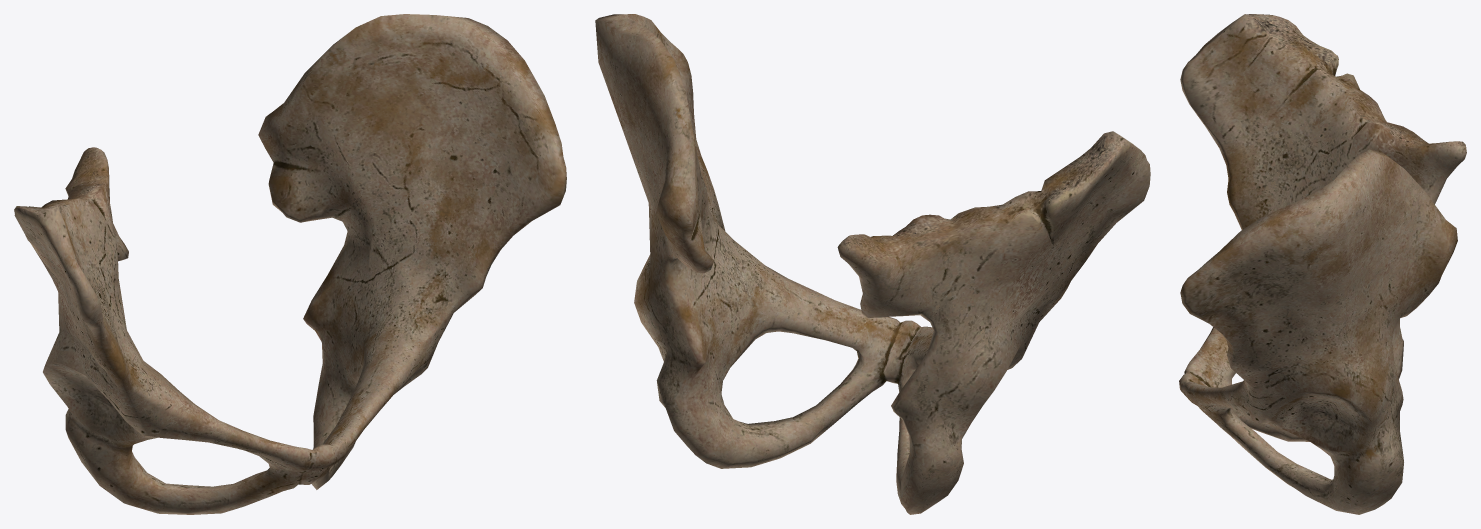
The model's file is bone_hipbone_fractured.DAE.
The picture shows the model from 3 angles, left to right: view 1: azimuth 30°, elevation 25°; view 2: azimuth 150°, elevation 25°; view 3: azimuth 270°, elevation 25°; orthographic projection. The views are drawn at different scales.
Visible parts, largest first — view 1: bone_hipbone_fractured; view 2: bone_hipbone_fractured; view 3: bone_hipbone_fractured.
Boxes of the visible parts, x1=… form: bone_hipbone_fractured: x1=14, y1=14, x2=566, y2=514; bone_hipbone_fractured: x1=595, y1=14, x2=1150, y2=514; bone_hipbone_fractured: x1=1179, y1=14, x2=1466, y2=514.
Size of the model in its own units: 34.57 by 27.98 by 18.43.
